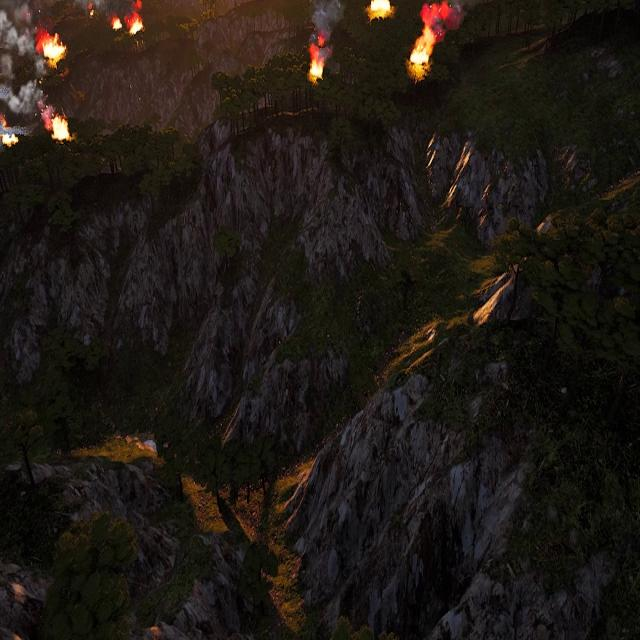fire: (408, 22, 438, 70), (38, 31, 64, 58), (127, 12, 144, 41), (51, 116, 70, 140), (369, 0, 393, 16), (311, 56, 326, 80), (0, 133, 19, 150), (112, 16, 123, 32), (88, 3, 96, 21)
smoke: (0, 0, 44, 122), (307, 0, 343, 52), (417, 0, 464, 38)
